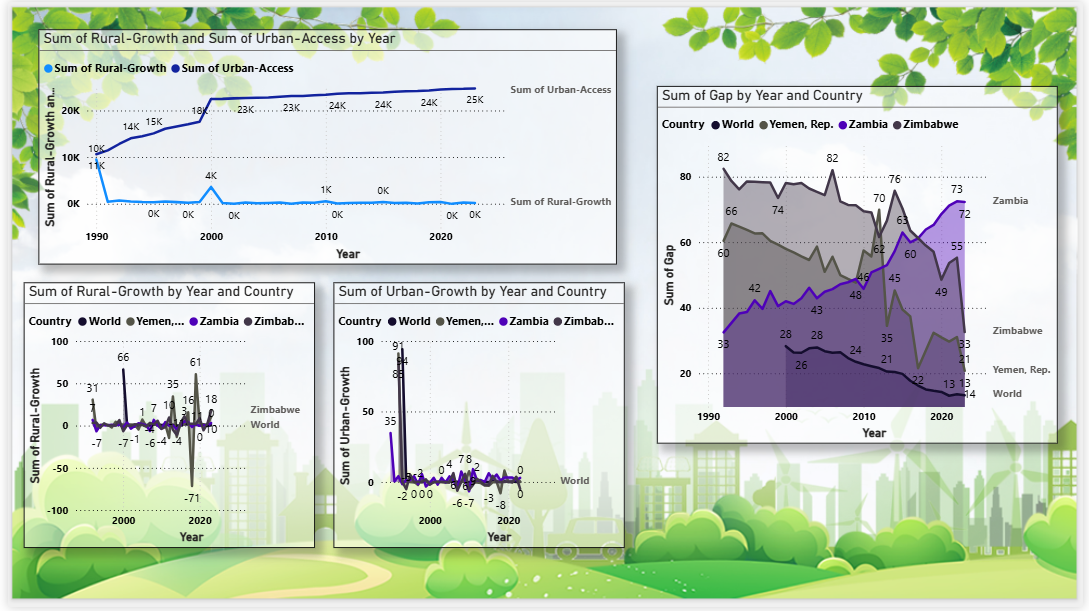

The dashboard page shown, as its layout file describes it:
{"tool":"powerbi","page":{"name":"Page 3","canvas":[1280,720],"ordinal":2},"visuals":[{"type":"lineChart","fields":{"Category":["Ftable.Year"],"Y":["Sum(Ftable.Rural-Growth)","Sum(Ftable.Urban-Access)"]},"box":[35.7,32.9,688.6,280],"z":0},{"type":"areaChart","fields":{"Category":["Ftable.Year"],"Series":["Ftable.Country"],"Y":["Sum(Ftable.Rural-Growth)"]},"box":[18.6,334.3,347.1,315.7],"z":1000},{"type":"areaChart","fields":{"Category":["Ftable.Year"],"Series":["Ftable.Country"],"Y":["Sum(Ftable.Urban-Growth)"]},"box":[387.1,334.3,347.1,315.7],"z":2000},{"type":"areaChart","fields":{"Category":["Ftable.Year"],"Y":["Sum(Ftable.Gap)"],"Series":["Ftable.Country"]},"box":[772.9,100,477.1,425.7],"z":3000}]}

Visuals, with their boxes in screenshot pixels (x1, y1, x2, y2), scaled from the page's 1280x720 canvas onto the 1089x611 screenshot:
lineChart - Ftable.Year x Sum(Ftable.Rural-Growth): <bbox>30, 28, 616, 266</bbox>
areaChart - Ftable.Year x Ftable.Country: <bbox>16, 284, 311, 552</bbox>
areaChart - Ftable.Year x Ftable.Country: <bbox>329, 284, 625, 552</bbox>
areaChart - Ftable.Year x Sum(Ftable.Gap): <bbox>658, 85, 1063, 446</bbox>
